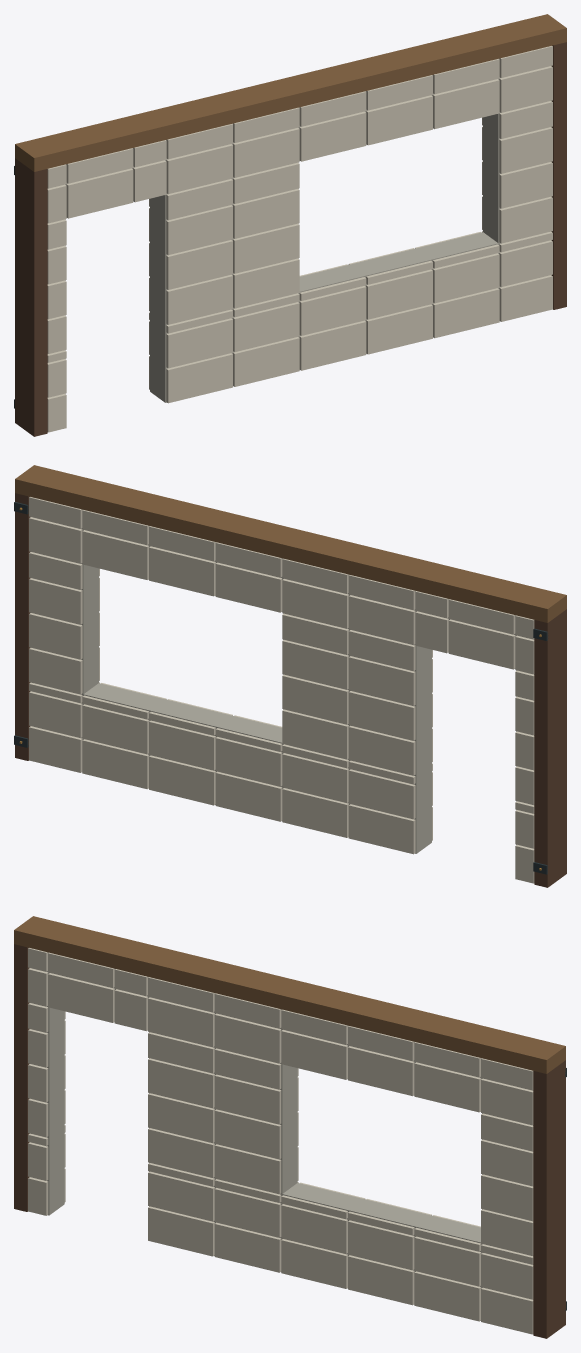
3 views of the same model, one above another, from view 1: azimuth 30°, elevation 25°; view 2: azimuth 150°, elevation 25°; view 3: azimuth 330°, elevation 25° (orthographic).
Visible parts, largest first — view 1: 共享分段实体墙; view 2: 共享分段实体墙; view 3: 共享分段实体墙.
Part boxes in pixels (<box>): 共享分段实体墙: <box>14,14,566,436</box>; 共享分段实体墙: <box>14,465,566,887</box>; 共享分段实体墙: <box>14,916,566,1338</box>.
Size of the model in its own units: 6.4 by 3.2 by 0.44.
Materials: 6 (6 with a texture image).
